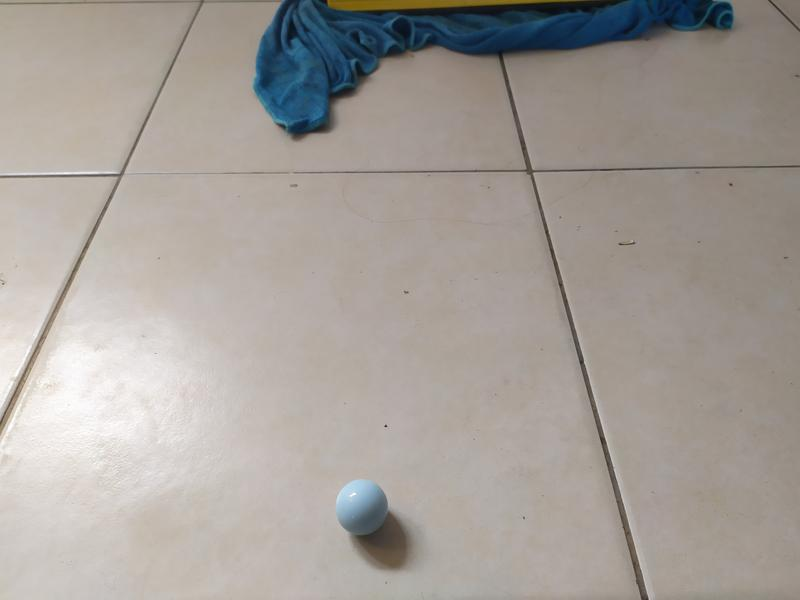Warning: (333, 477, 392, 538)
